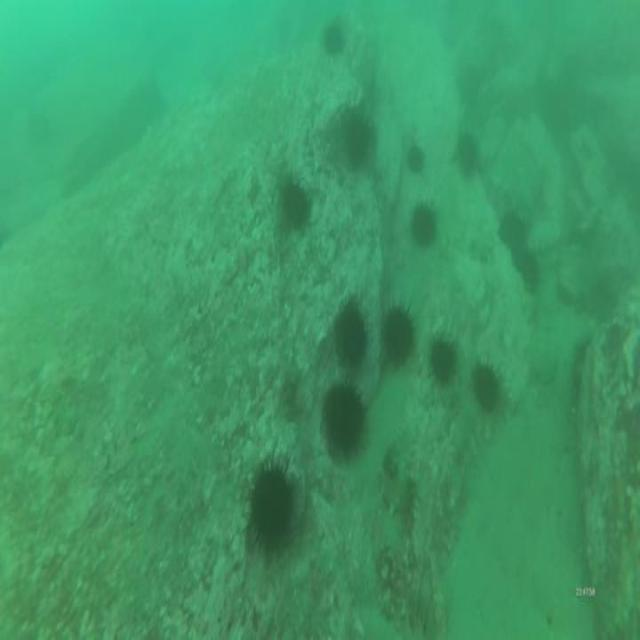echinus: (244, 451, 297, 556), (322, 379, 368, 458), (329, 292, 372, 373), (377, 300, 418, 375), (278, 172, 316, 239), (424, 331, 463, 394), (469, 357, 504, 419), (342, 114, 374, 177), (404, 198, 441, 251), (496, 207, 530, 258), (512, 245, 543, 295), (457, 60, 487, 111), (453, 128, 480, 177), (318, 19, 348, 63), (402, 142, 428, 179)
holothurian: (377, 466, 416, 520)
